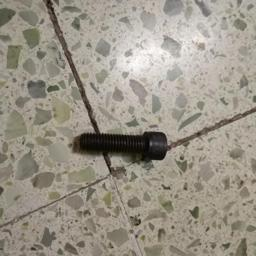screwtype1black: (75, 127, 170, 166)
